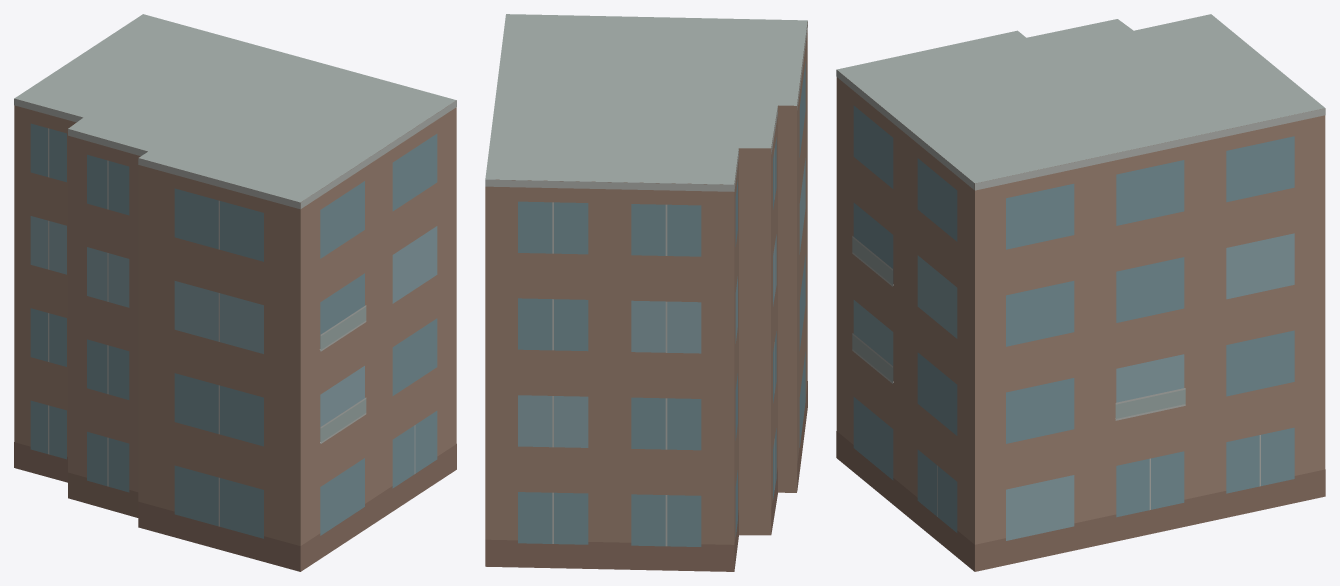
The model's file is survey-upis-32730991.glb.
3 views of the same model, side by side, from view 1: azimuth 30°, elevation 25°; view 2: azimuth 150°, elevation 25°; view 3: azimuth 270°, elevation 25° (orthographic). The views are drawn at different scales.
Visible parts, largest first — view 1: survey-upis-32730991.tmp; view 2: survey-upis-32730991.tmp; view 3: survey-upis-32730991.tmp.
Boxes of the visible parts, left/top/right/bottom form: survey-upis-32730991.tmp: left=14, top=14, right=456, bottom=571; survey-upis-32730991.tmp: left=485, top=14, right=807, bottom=571; survey-upis-32730991.tmp: left=836, top=14, right=1325, bottom=571.
Size of the model in its own units: 12.36 by 13.2 by 15.07.
